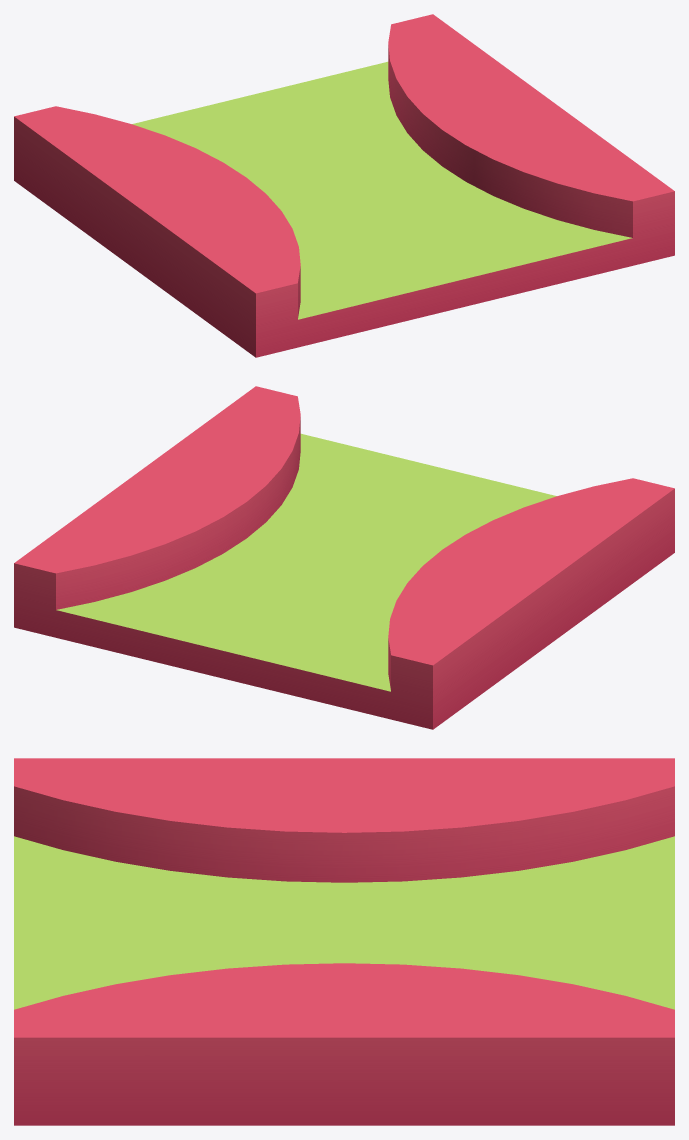
Rendered from narrow-round.gltf.
3 views of the same model, one above another, from view 1: azimuth 30°, elevation 25°; view 2: azimuth 150°, elevation 25°; view 3: azimuth 270°, elevation 25° (orthographic). The views are drawn at different scales.
Visible parts, largest first — view 1: narrow-round; view 2: narrow-round; view 3: narrow-round.
Part boxes in pixels (box(x1,y1,x2,y2)): narrow-round: box(14, 14, 674, 357); narrow-round: box(14, 386, 674, 729); narrow-round: box(14, 758, 674, 1125).
Size of the model in its own units: 0.9999 by 0.1467 by 0.9999.
1 material, 1 textured.
